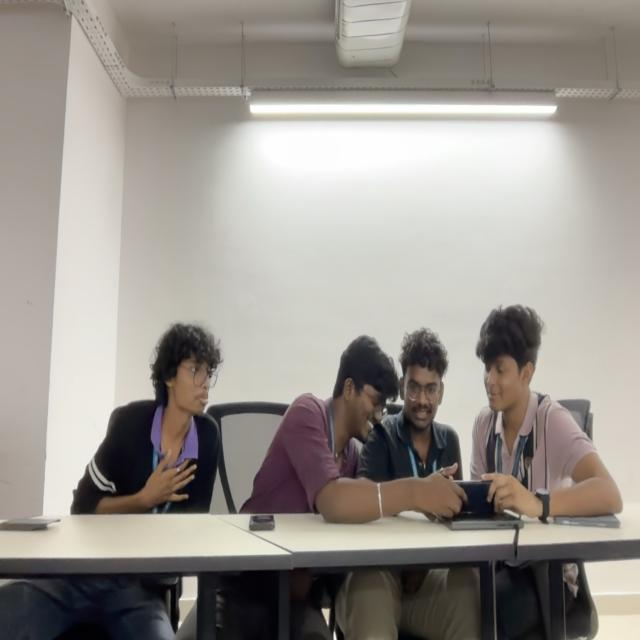Isolated: (70, 324, 222, 512)
socializing: (253, 303, 625, 516)
